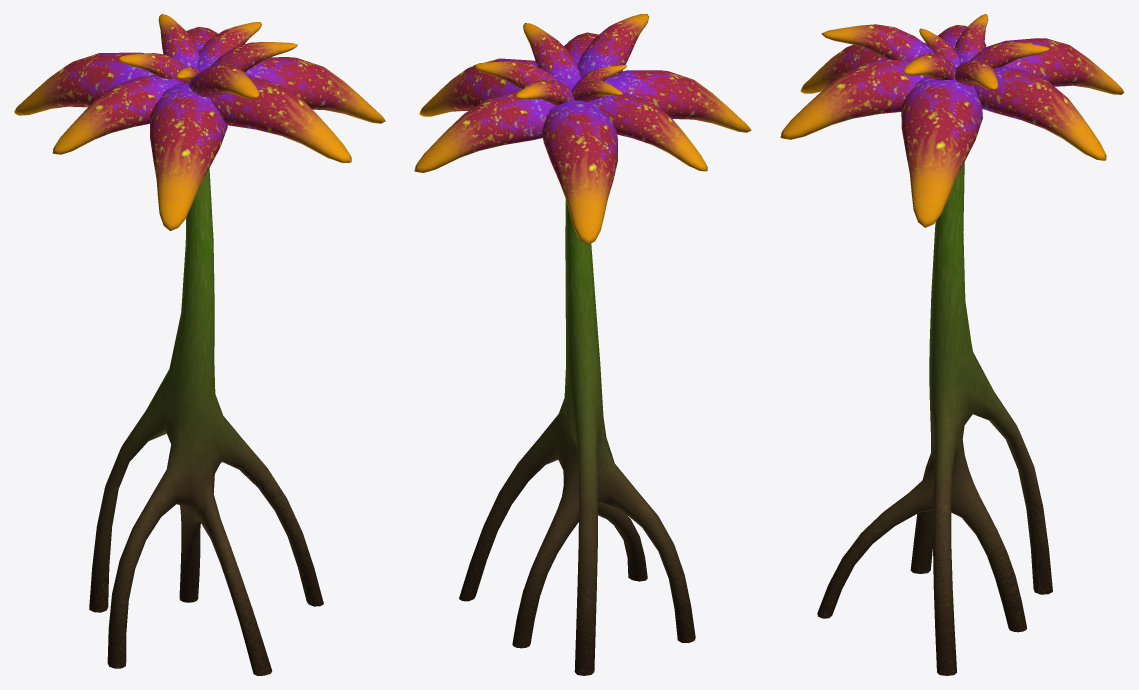
File: fleur.fbx
3 views of the same model, side by side, from view 1: azimuth 30°, elevation 25°; view 2: azimuth 150°, elevation 25°; view 3: azimuth 270°, elevation 25° (orthographic). The views are drawn at different scales.
Parts seen in each view (by area): view 1: fleur_LOD0; view 2: fleur_LOD0; view 3: fleur_LOD0.
Boxes of the visible parts, x1,y1,x2,y2 form: fleur_LOD0: (14,14,385,675); fleur_LOD0: (414,14,751,675); fleur_LOD0: (780,14,1124,675).
Size of what is drawn, in the model's own units: 415 by 746 by 394.
